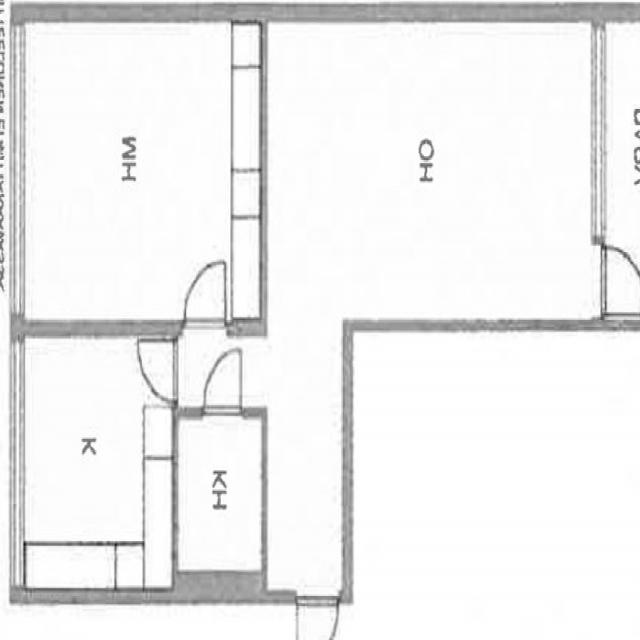door: (184, 254, 225, 336), (591, 247, 640, 314), (133, 339, 178, 401), (204, 348, 242, 418), (297, 590, 338, 640)
